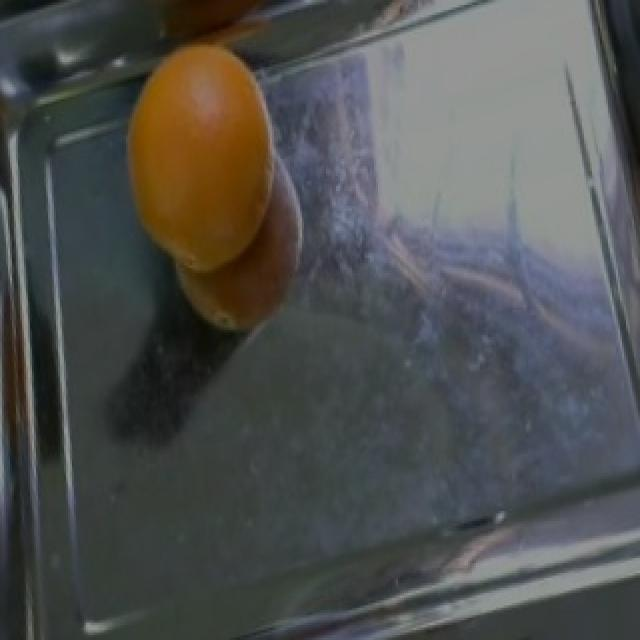Fruit: (118, 27, 286, 278)
